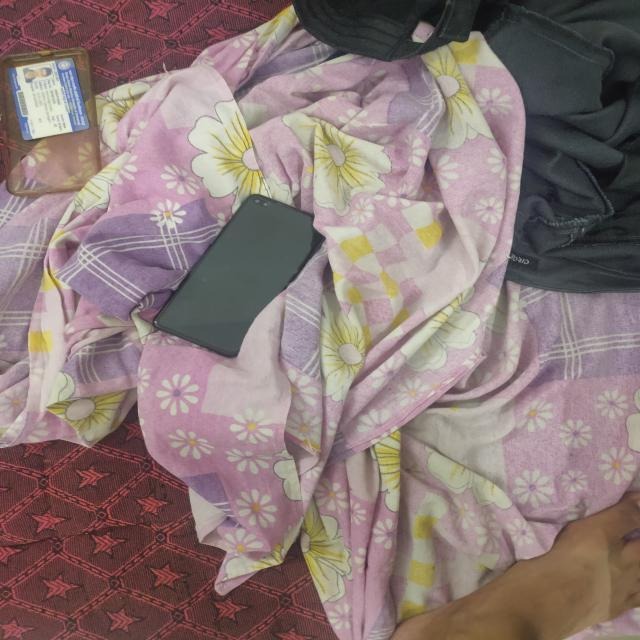Phone: (150, 191, 321, 363)
